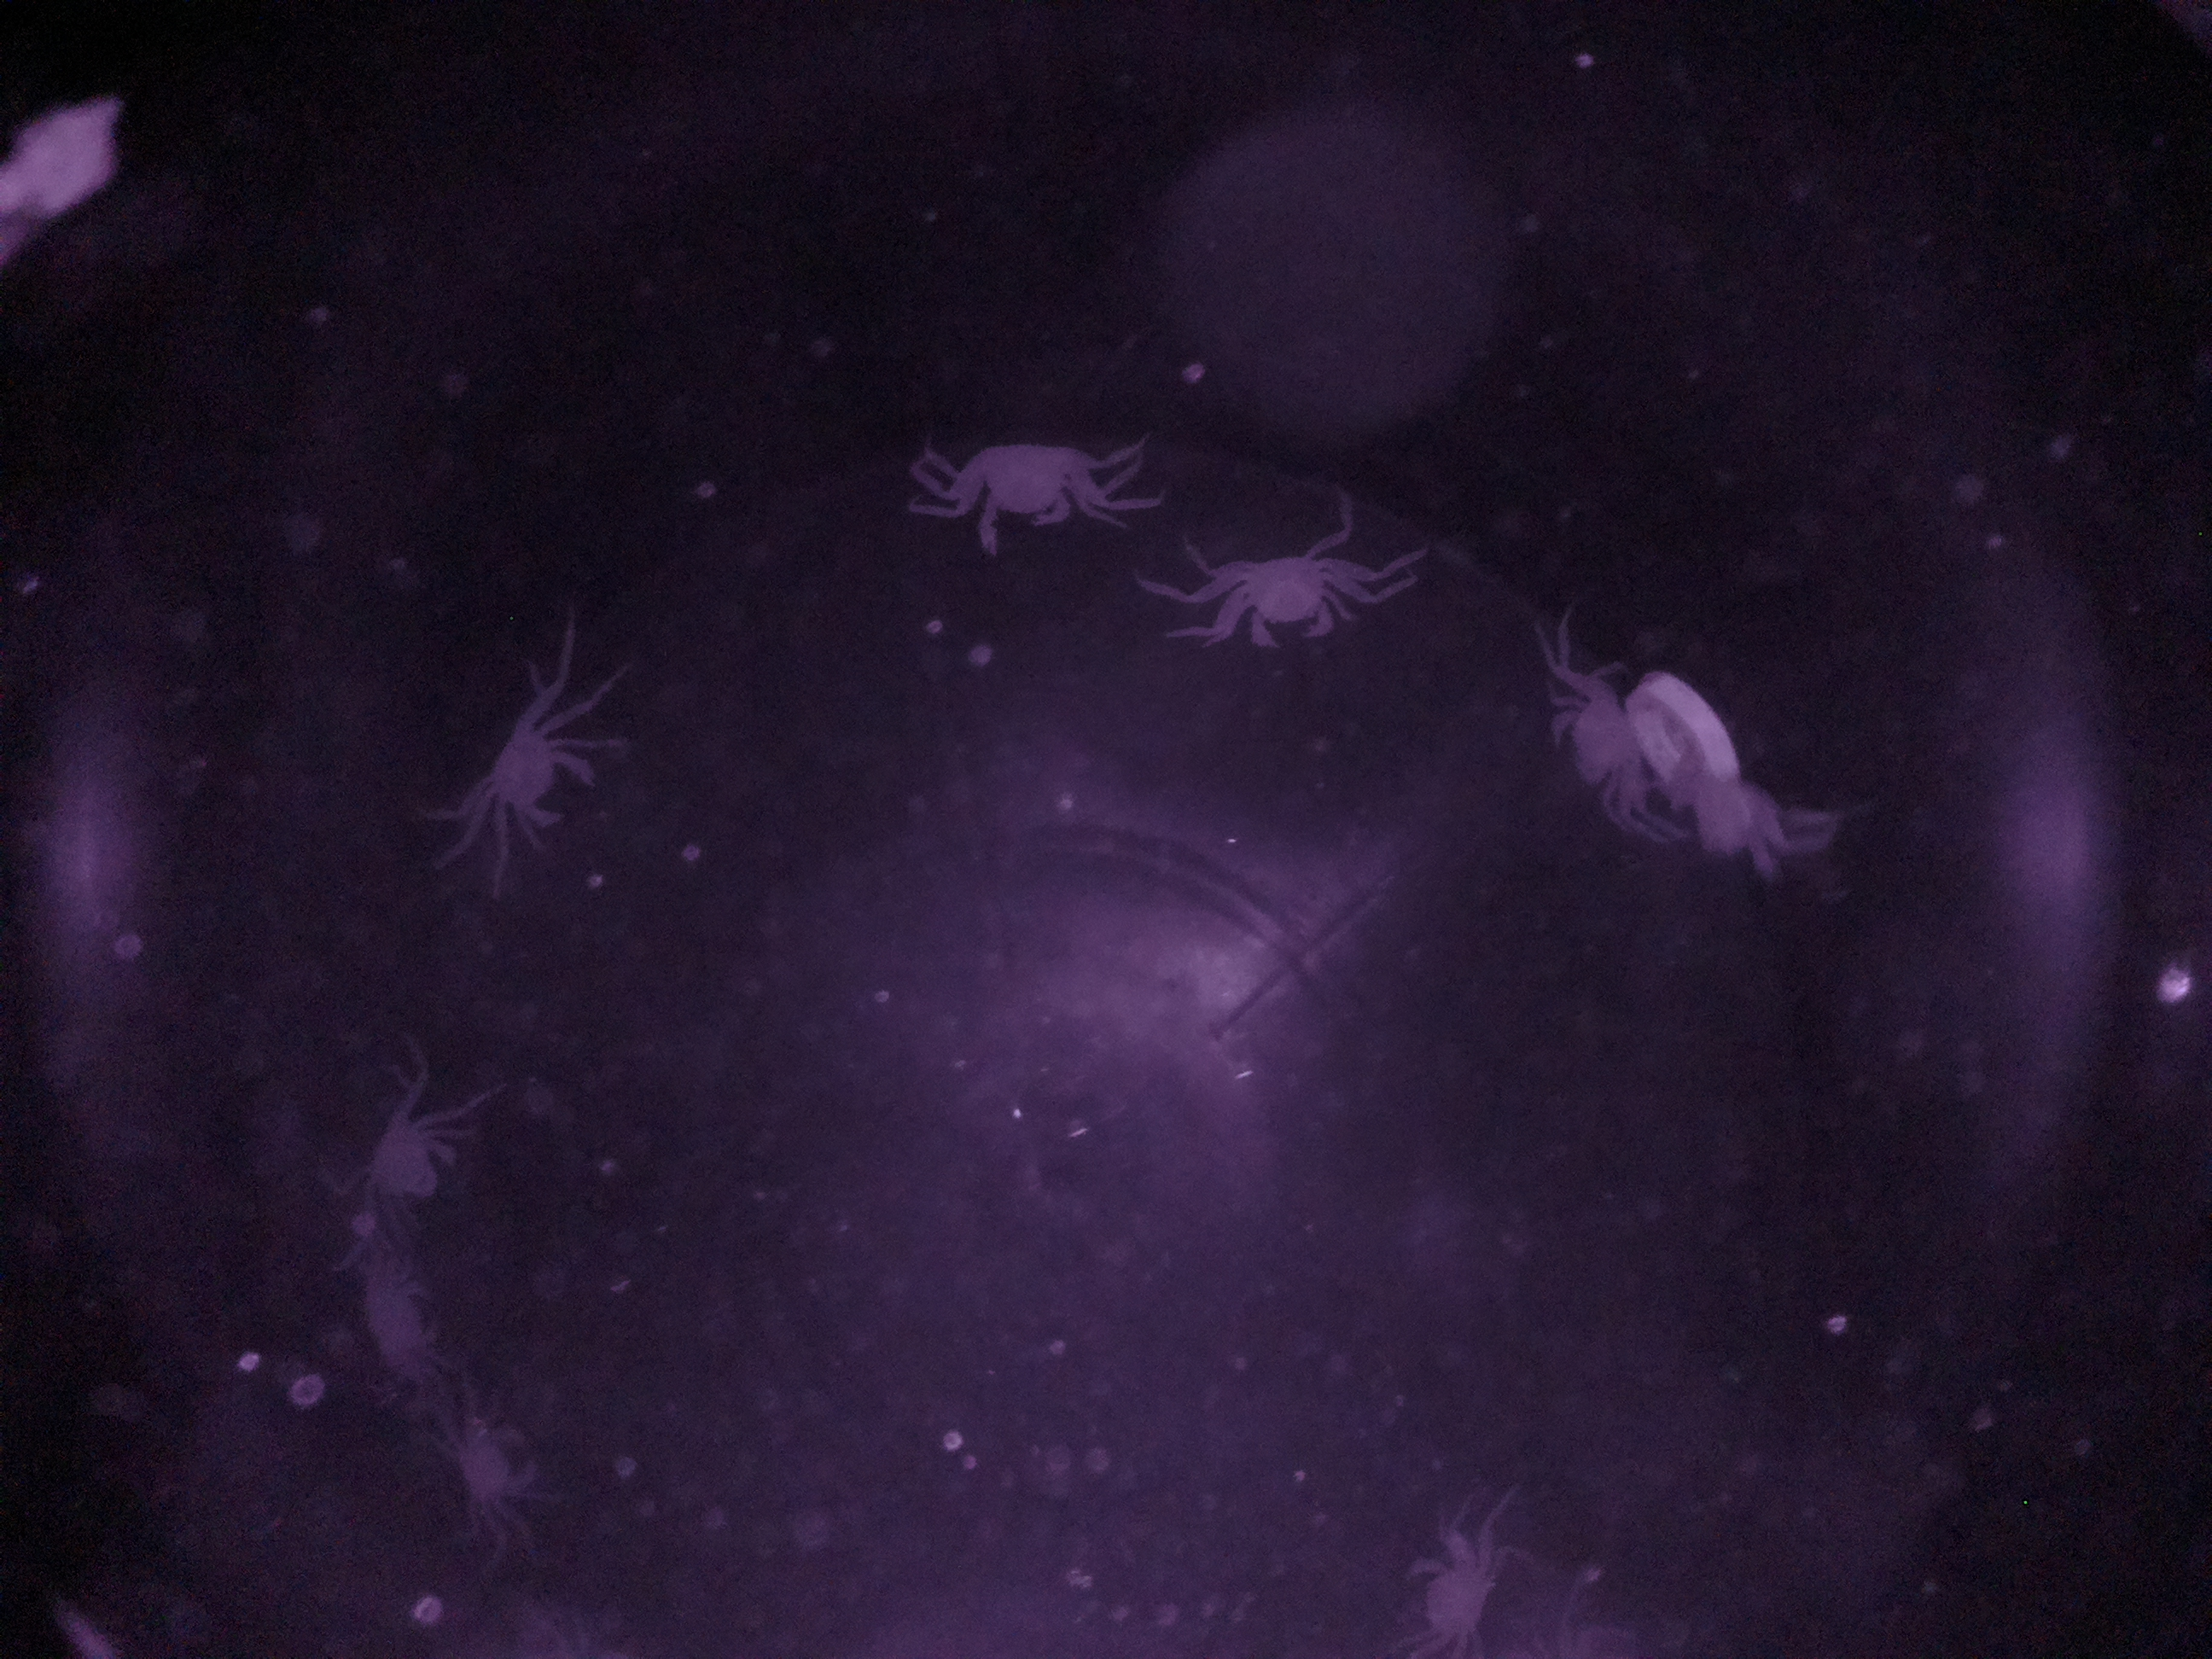Crab: (458, 681, 622, 850), (1193, 523, 1366, 664), (944, 415, 1090, 556), (1543, 652, 1653, 835)
